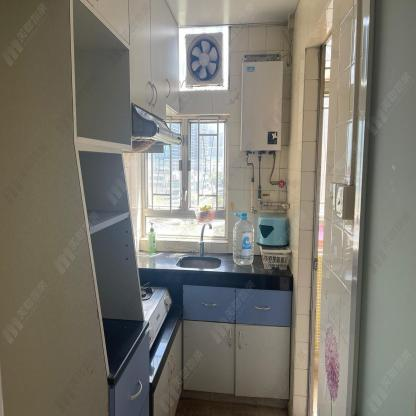Cupboard: (184, 286, 297, 402), (130, 0, 180, 118)
Exhaust Fan: (184, 33, 225, 88)
Exhaust Hood: (132, 102, 181, 144)
Faucet: (196, 216, 213, 255)
Sink: (176, 256, 223, 269)
Stove: (142, 286, 174, 350)
